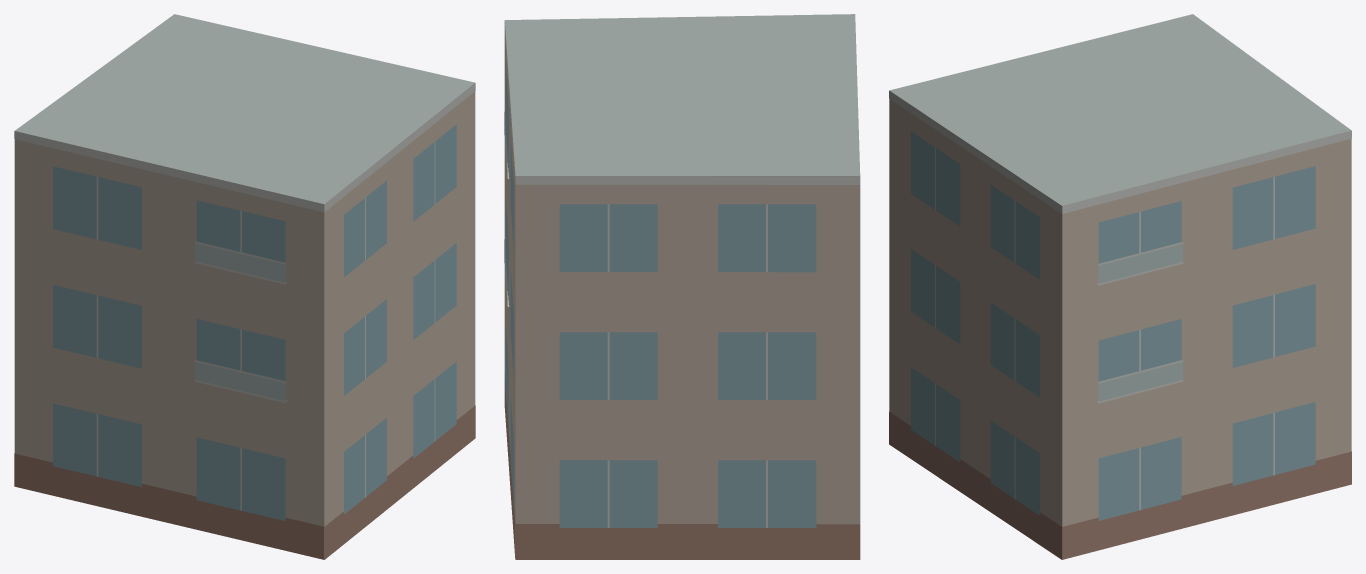
File: survey-upis-32581457.glb
3 views of the same model, side by side, from view 1: azimuth 30°, elevation 25°; view 2: azimuth 150°, elevation 25°; view 3: azimuth 270°, elevation 25° (orthographic). The views are drawn at different scales.
Visible parts, largest first — view 1: survey-upis-32581457.tmp; view 2: survey-upis-32581457.tmp; view 3: survey-upis-32581457.tmp.
Part boxes in pixels (x1,y1,x2,y2): survey-upis-32581457.tmp: (14, 14, 475, 559); survey-upis-32581457.tmp: (504, 14, 860, 559); survey-upis-32581457.tmp: (889, 14, 1351, 559).
Bounding box in the file's own units: 12.4 × 10.65 × 12.63.
